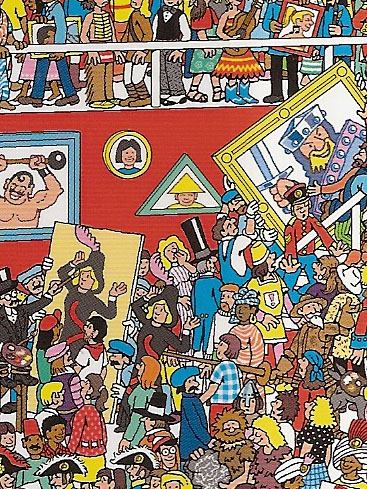waldo: (151, 434, 178, 469)
